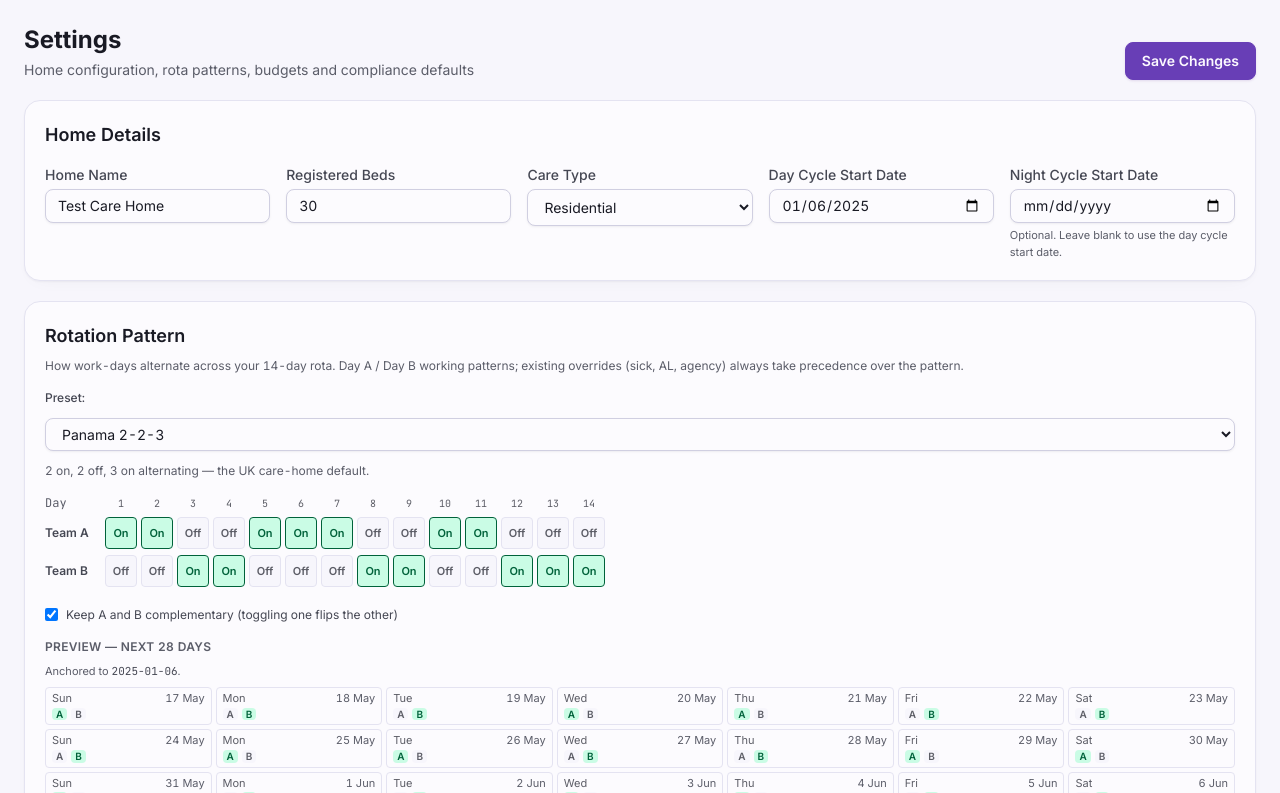
Config › shows save error when saveConfig rejects
The width and height of the screenshot is (1280, 793).
Expected: the heading "Settings" is shown, [24, 25, 121, 54]
What coordinates should you click on to do the following:
click the button "Save Changes"
I would click on:
 (1190, 61)
Its box is [1125, 42, 1256, 80].
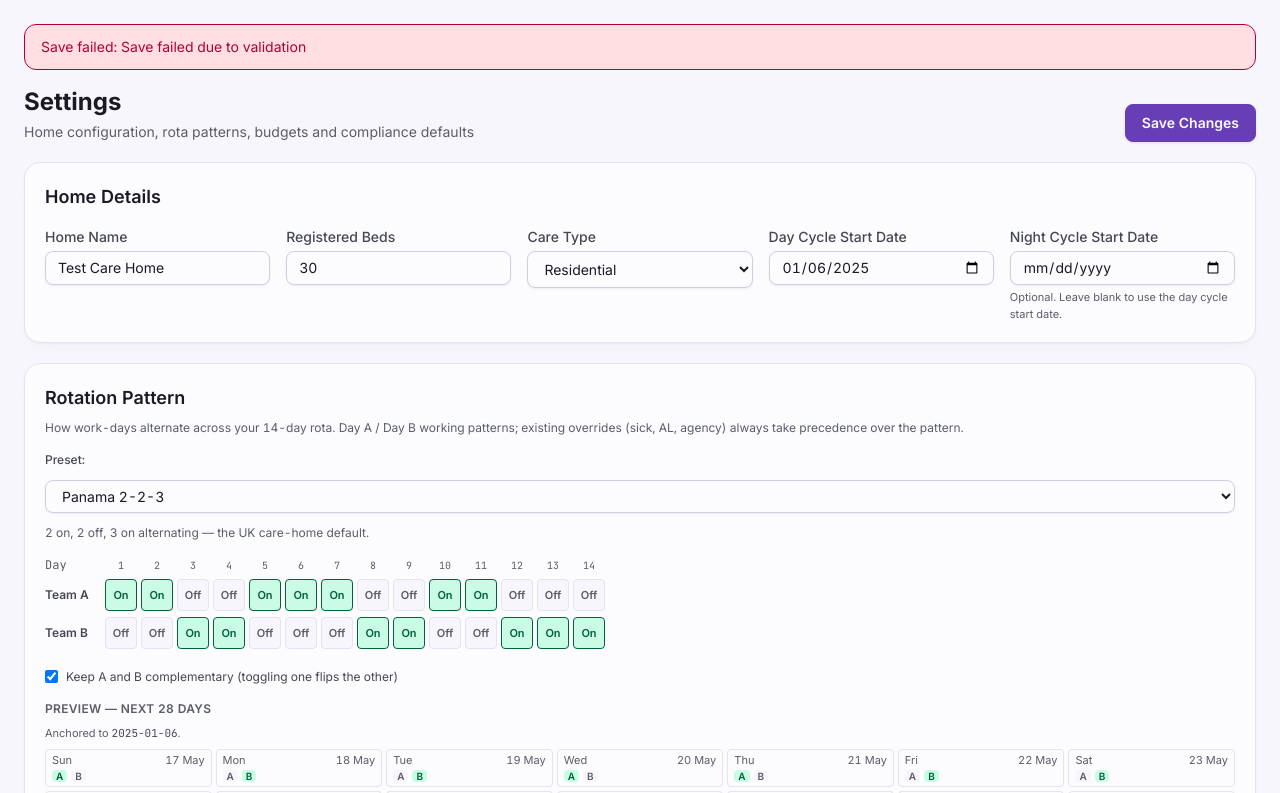
Result: the text "Save failed: Save failed due to validation" is shown at [24, 24, 1256, 70]
